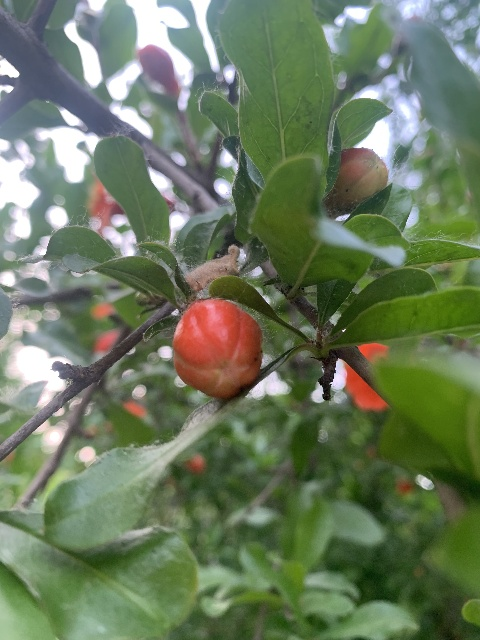bud: (172, 298, 262, 399), (327, 148, 388, 212), (136, 44, 180, 98)
